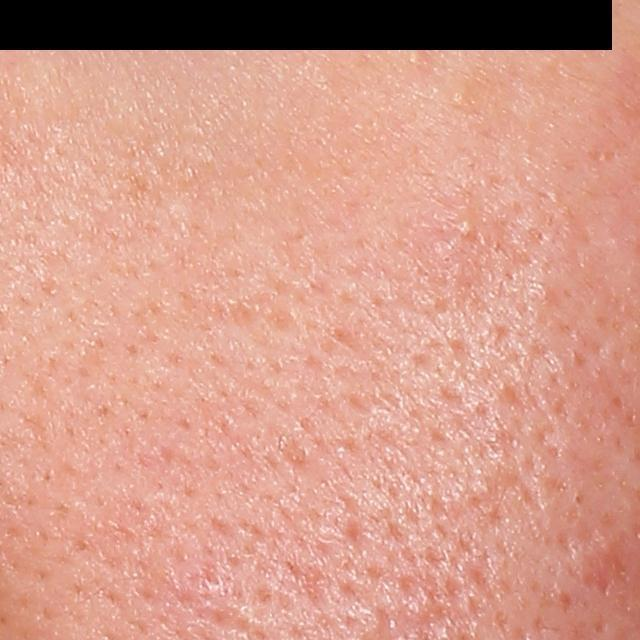comedo: (450, 212, 478, 239)
